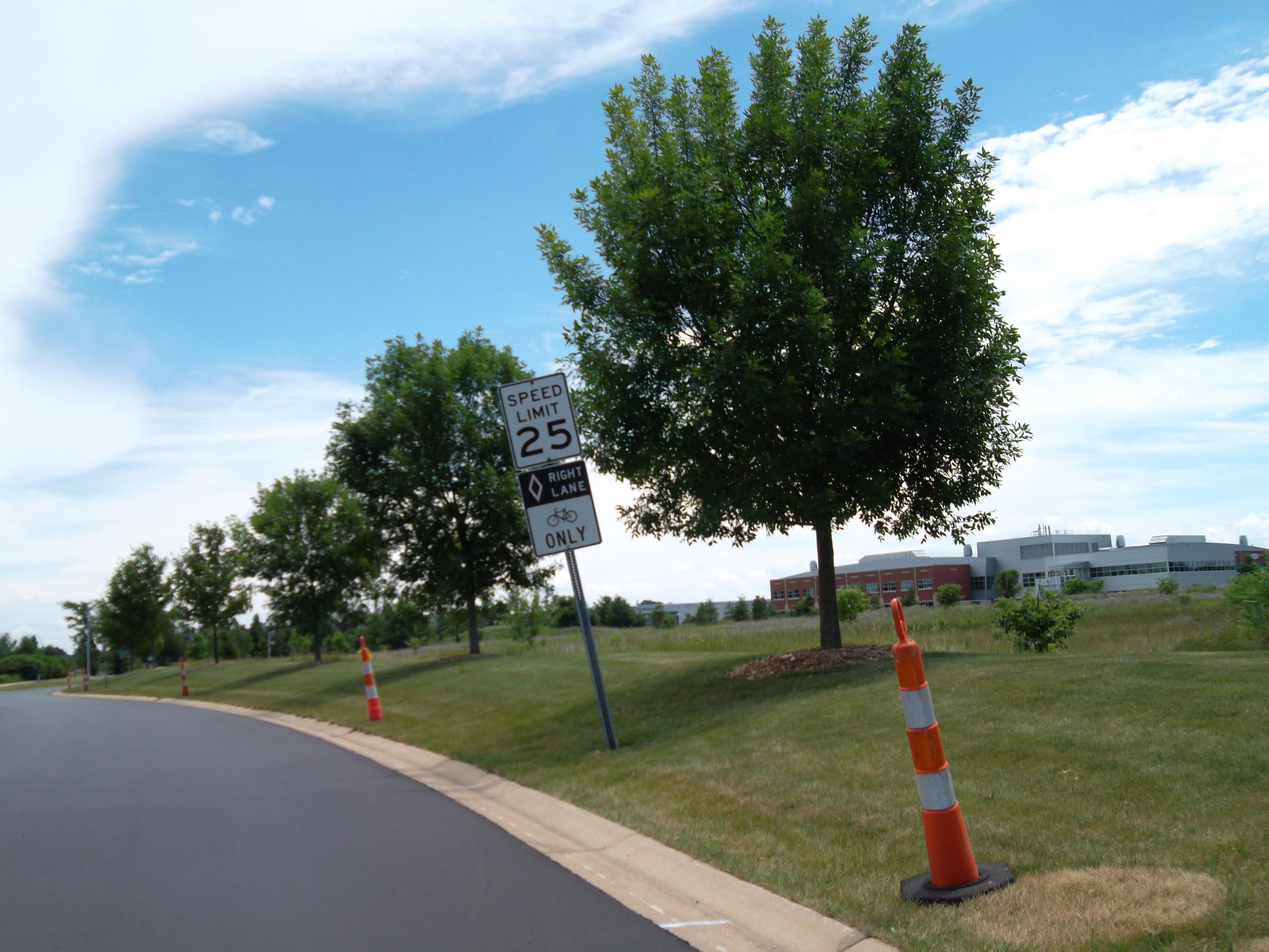Speed Limit 25mph: (500, 386, 564, 466)
